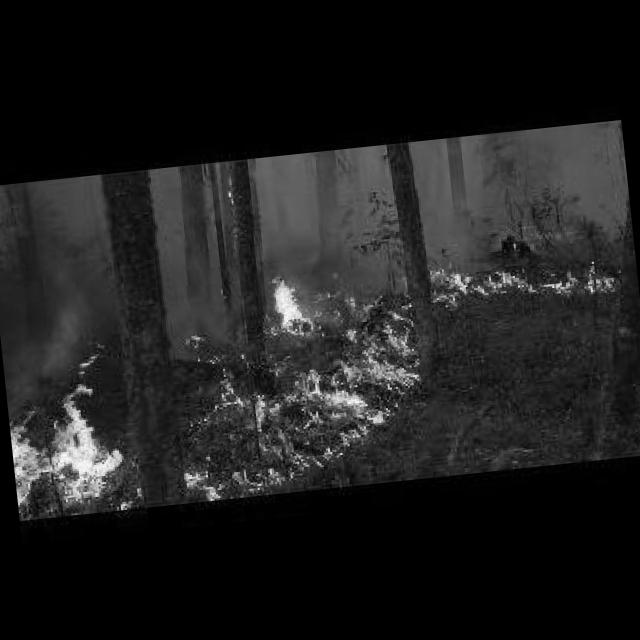Smoke: (0, 264, 432, 514), (426, 218, 627, 314)
